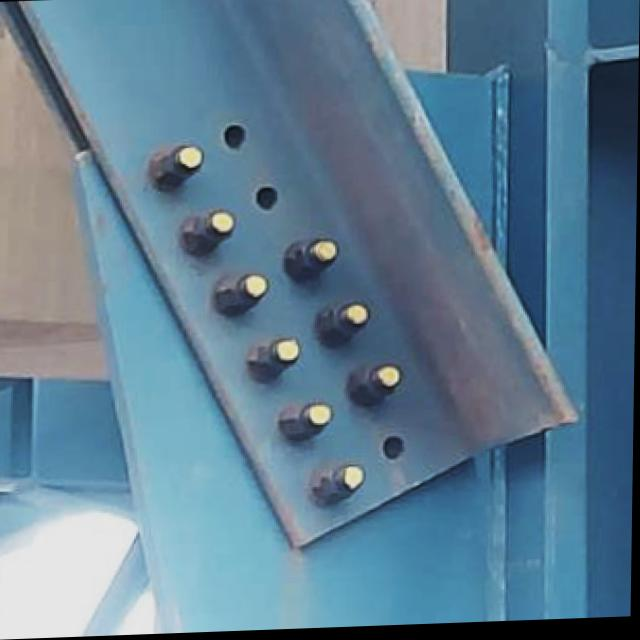Missing bolt: (256, 184, 285, 218), (382, 435, 410, 470), (218, 126, 253, 152)
Regular bolt: (184, 209, 238, 255), (356, 367, 410, 413), (318, 303, 372, 349), (319, 464, 372, 510), (150, 144, 204, 189), (216, 278, 270, 323), (252, 334, 305, 379), (285, 404, 338, 449), (287, 243, 340, 288)
